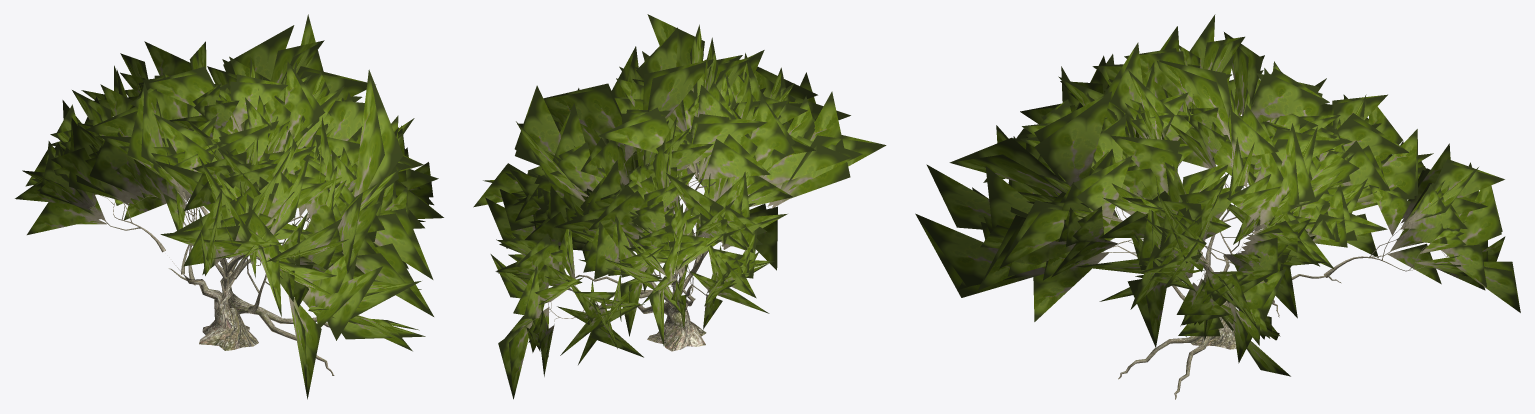
File: bush0.obj
The picture shows the model from 3 angles, left to right: view 1: azimuth 30°, elevation 25°; view 2: azimuth 150°, elevation 25°; view 3: azimuth 270°, elevation 25°; orthographic projection. The views are drawn at different scales.
Visible parts, largest first — view 1: oak leaf, mossybark03; view 2: oak leaf, mossybark03; view 3: oak leaf, mossybark03.
Part boxes in pixels (x1,y1,x2,y2): oak leaf: (15, 14, 443, 399); mossybark03: (93, 127, 334, 375); oak leaf: (473, 14, 886, 399); mossybark03: (545, 151, 768, 351); oak leaf: (915, 14, 1520, 376); mossybark03: (1102, 108, 1450, 399).
Size of the model in its own units: 383 by 326 by 560.
2 materials, 2 textured.
